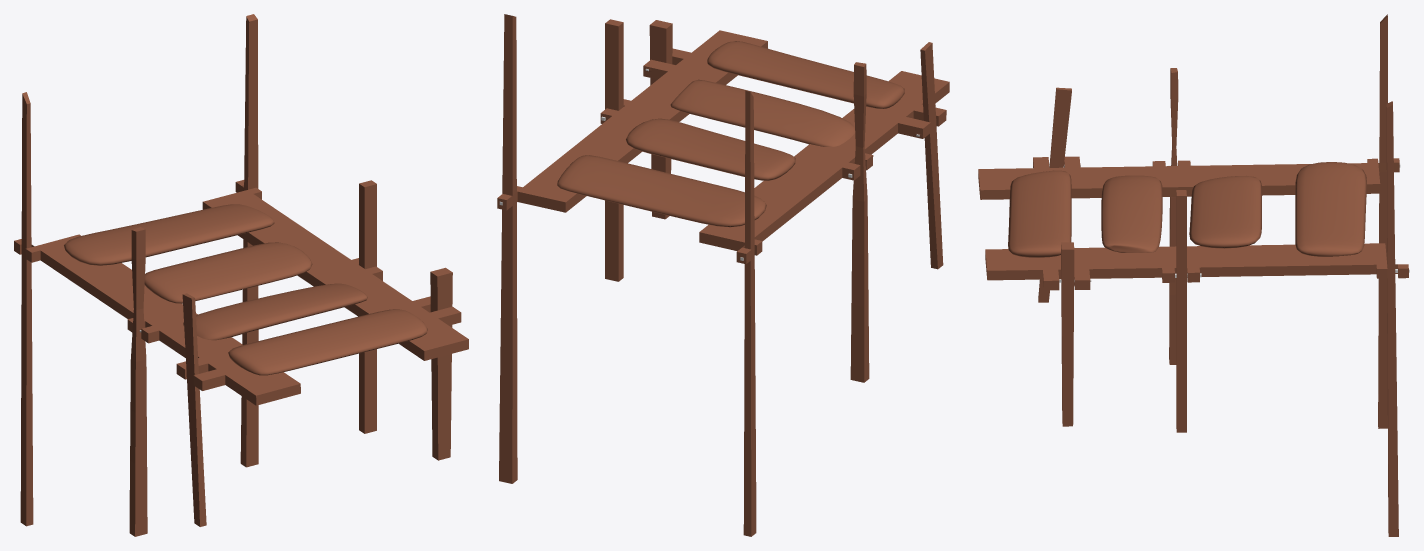
The model's file is Pier.fbx.
3 views of the same model, side by side, from view 1: azimuth 30°, elevation 25°; view 2: azimuth 150°, elevation 25°; view 3: azimuth 270°, elevation 25° (orthographic). The views are drawn at different scales.
Parts seen in each view (by area): view 1: Pier, Step, Step.003, Step.002, Step.001; view 2: Pier, Step.003, Step.001, Step, Step.002; view 3: Pier, Step.003, Step, Step.002, Step.001.
Boxes of the visible parts, x1=… form: Pier: x1=14, y1=14, x2=468, y2=536; Step: x1=228, y1=309, x2=427, y2=375; Step.003: x1=64, y1=204, x2=274, y2=265; Step.002: x1=144, y1=242, x2=312, y2=303; Step.001: x1=183, y1=283, x2=367, y2=340; Pier: x1=497, y1=14, x2=949, y2=536; Step.003: x1=557, y1=155, x2=766, y2=227; Step.001: x1=670, y1=79, x2=855, y2=146; Step: x1=707, y1=41, x2=904, y2=108; Step.002: x1=626, y1=118, x2=795, y2=180; Pier: x1=978, y1=14, x2=1409, y2=536; Step.003: x1=1295, y1=162, x2=1366, y2=256; Step: x1=1008, y1=170, x2=1071, y2=257; Step.002: x1=1189, y1=176, x2=1261, y2=248; Step.001: x1=1101, y1=175, x2=1162, y2=252.
Bounding box in the file's own units: 34.95 × 56.19 × 50.93.
